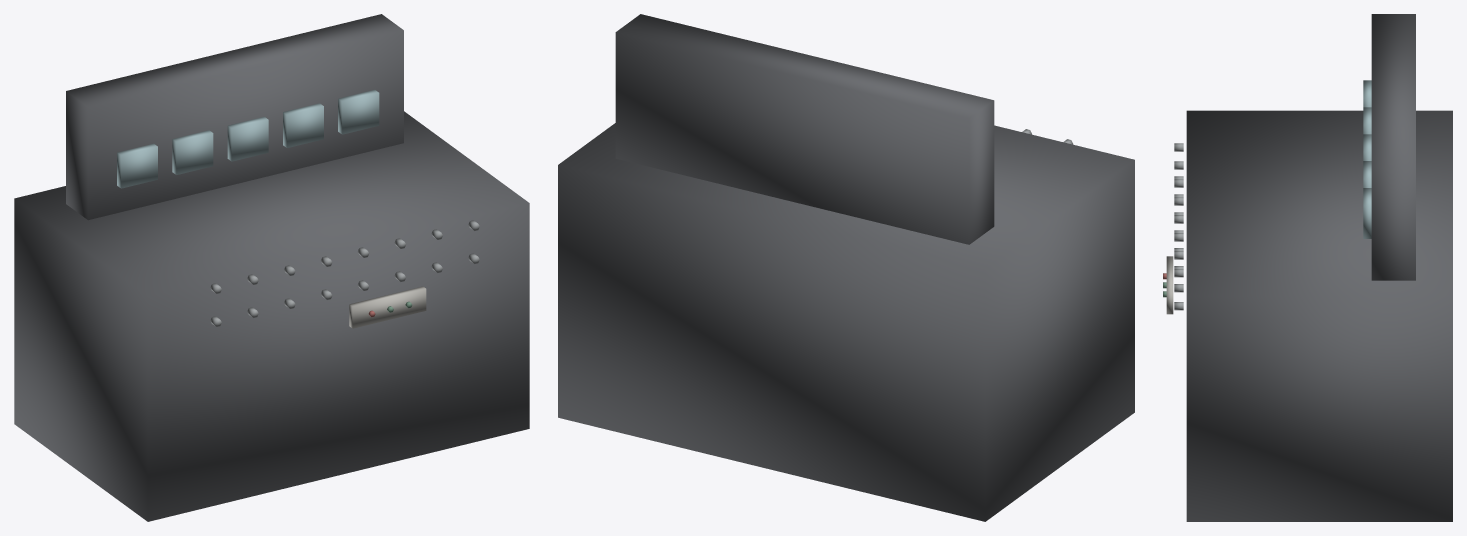
The model's file is radio_console__deep.glb.
3 views of the same model, side by side, from view 1: azimuth 30°, elevation 25°; view 2: azimuth 150°, elevation 25°; view 3: azimuth 270°, elevation 25° (orthographic). The views are drawn at different scales.
Visible parts, largest first — view 1: world; view 2: world; view 3: world.
Boxes of the visible parts, box(x1,y1,x2,y2) form: world: box(14, 14, 529, 521); world: box(558, 14, 1134, 521); world: box(1163, 14, 1452, 521).
Size of the model in its own units: 1.45 by 1.23 by 0.9559.
